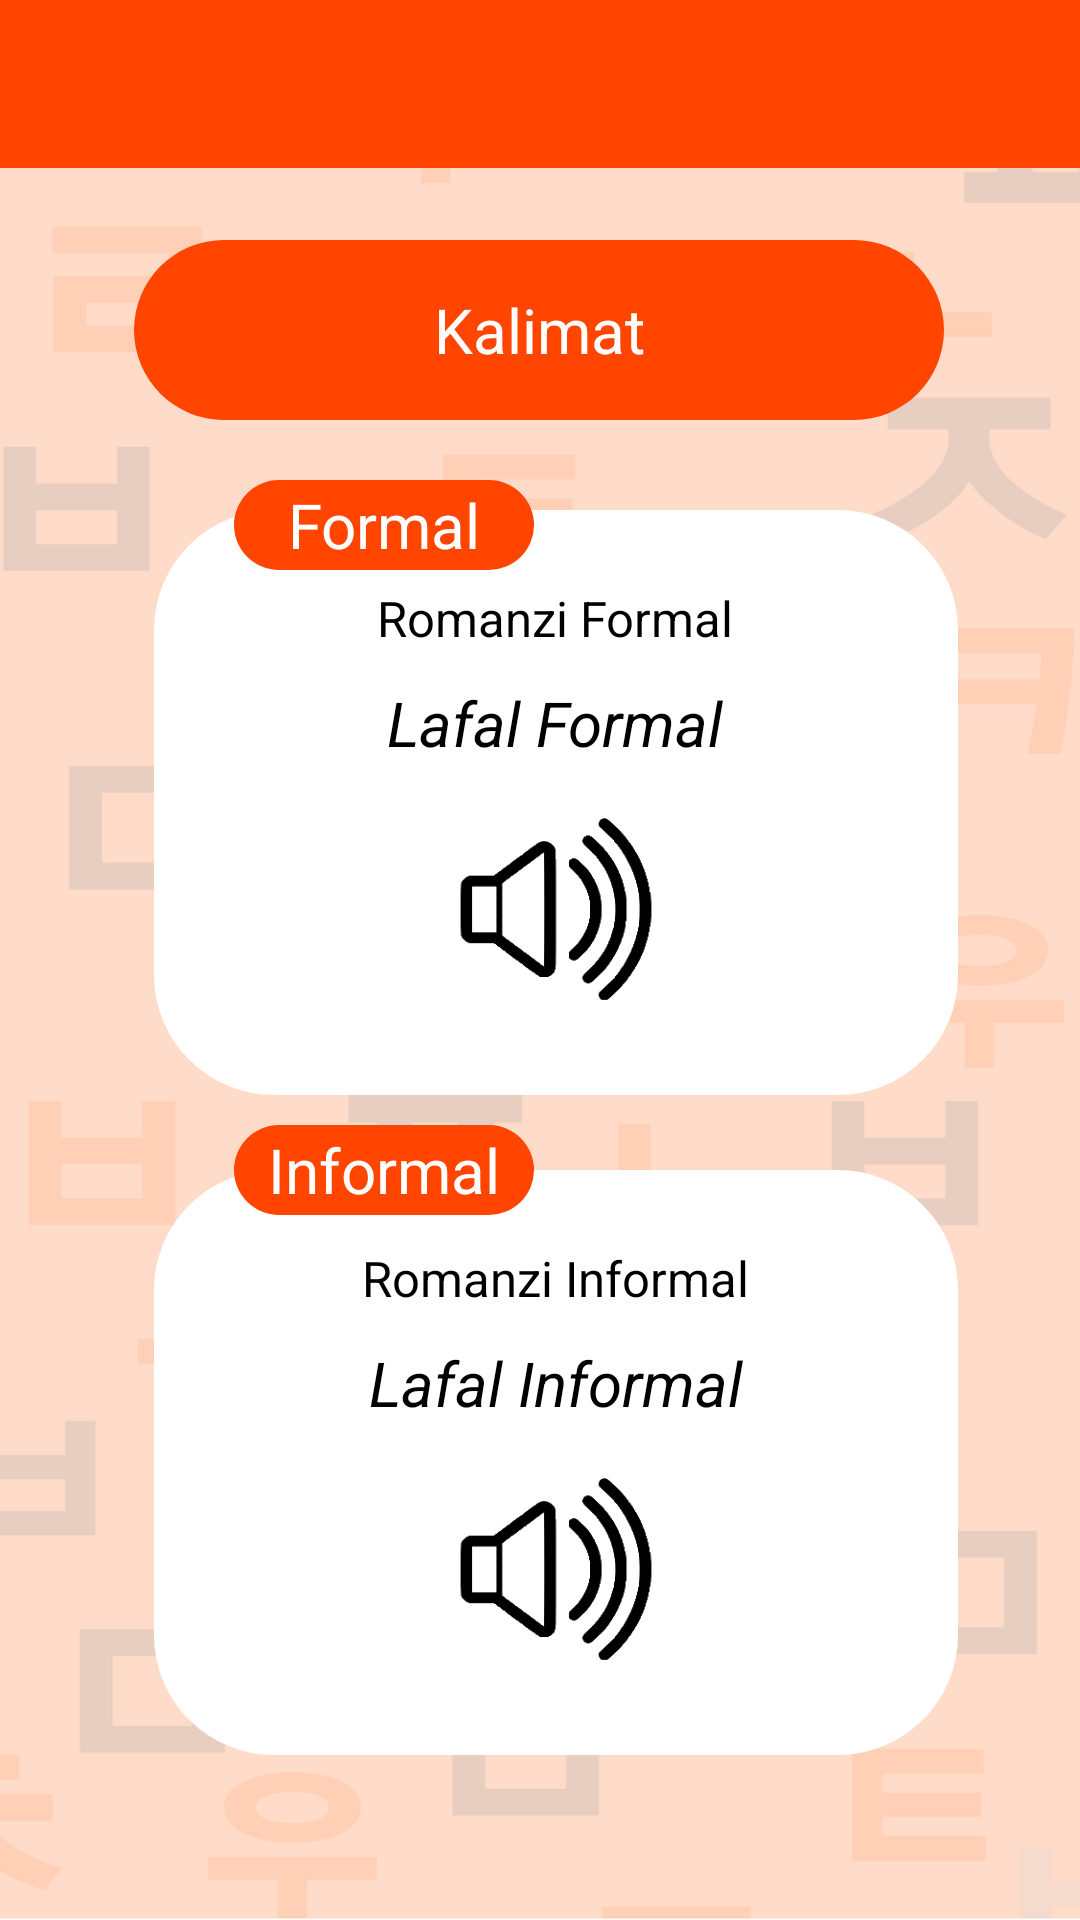

Where icons sit on this 1080x1920 app screen, as (x1, y1, x2, y2):
sound: (460, 818, 652, 1000), (460, 1478, 652, 1660)
